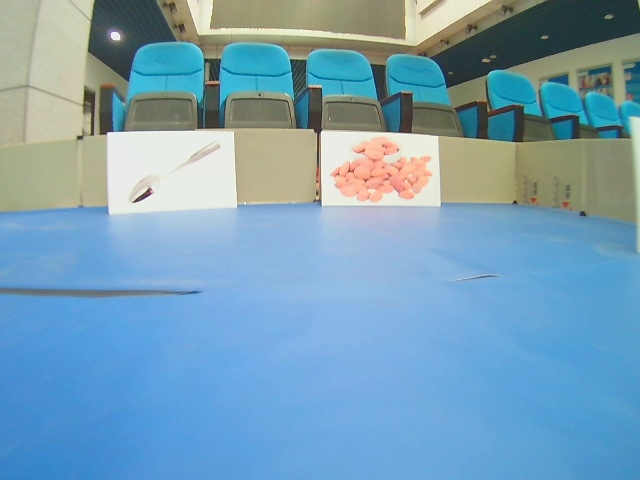dish: (106, 131, 239, 216)
food: (320, 131, 443, 209)
